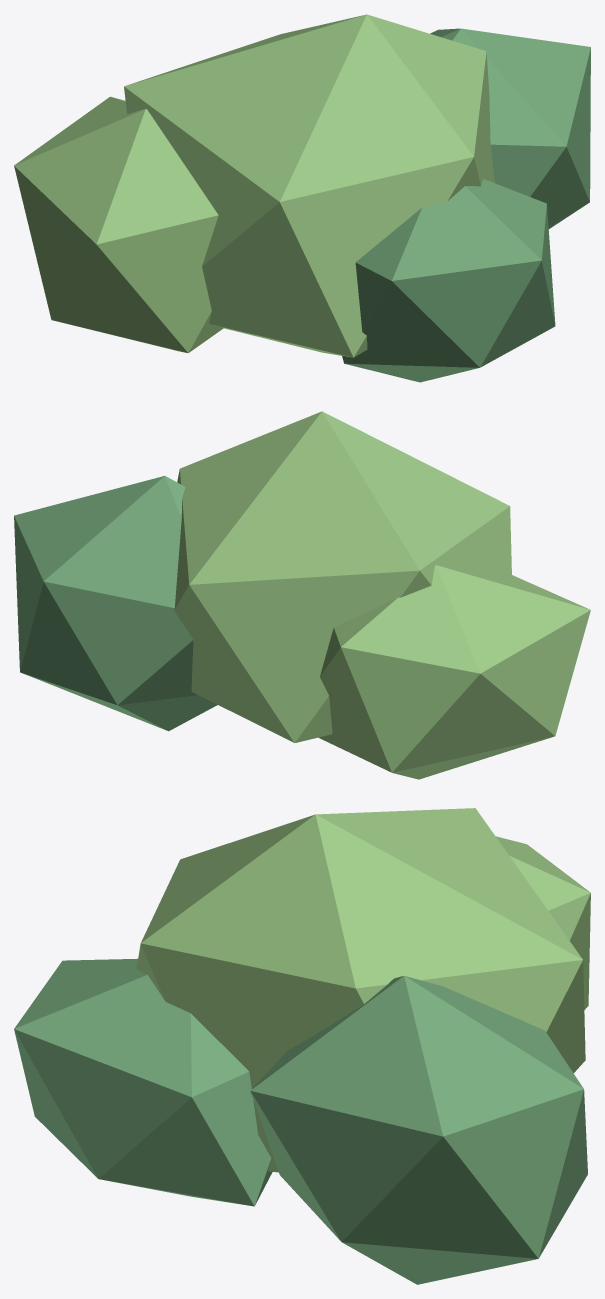
Rendered from Bush_A.fbx.
3 renders of one model, top to bottom at view 1: azimuth 30°, elevation 25°; view 2: azimuth 150°, elevation 25°; view 3: azimuth 270°, elevation 25°, orthographic. The views are drawn at different scales.
Parts seen in each view (by area): view 1: Bush_A_Mesh; view 2: Bush_A_Mesh; view 3: Bush_A_Mesh.
Boxes of the visible parts, x1,y1,x2,y2 form: Bush_A_Mesh: (14,14,590,382); Bush_A_Mesh: (14,411,590,779); Bush_A_Mesh: (14,808,590,1284).
Bounding box in the file's own units: 1.79 × 1.04 × 1.36.
